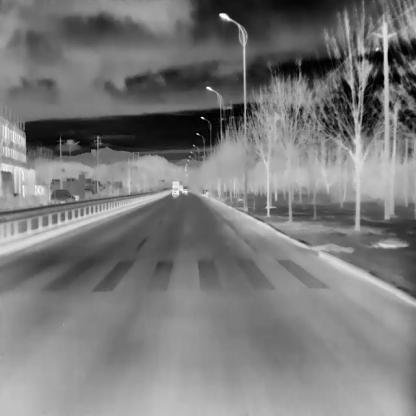car: (49, 188, 75, 202), (171, 185, 179, 196), (172, 180, 179, 190), (182, 186, 188, 193)
